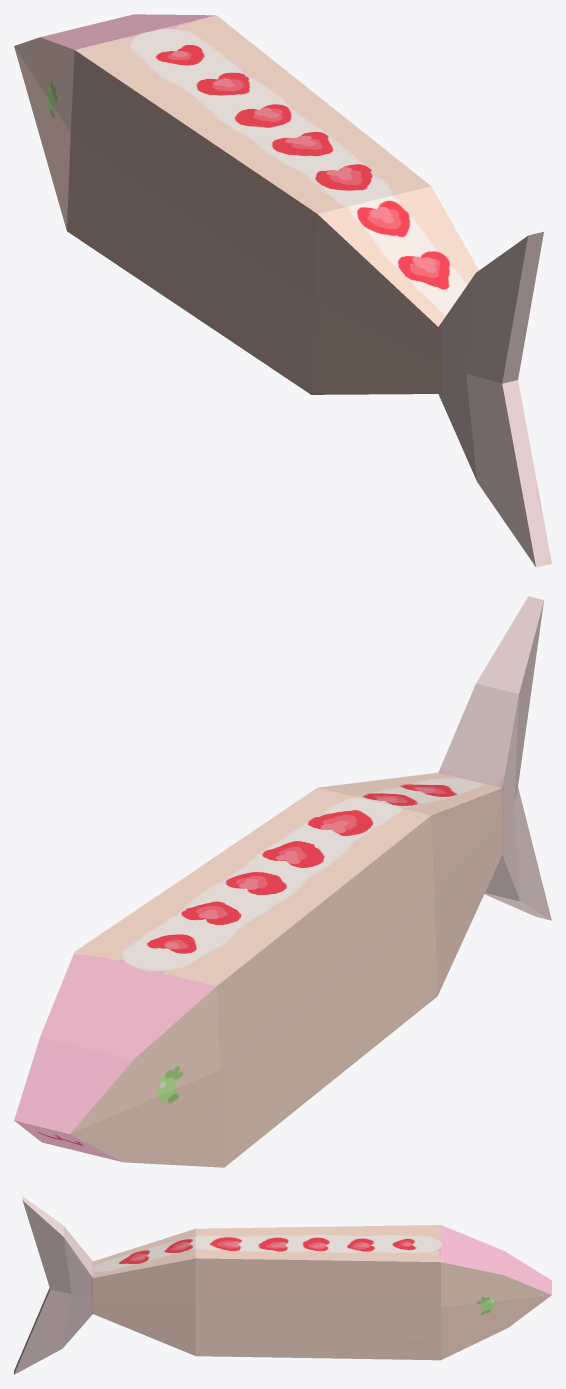
The model's file is fernandafish3.glb.
3 views of the same model, one above another, from view 1: azimuth 30°, elevation 25°; view 2: azimuth 150°, elevation 25°; view 3: azimuth 270°, elevation 25° (orthographic). The views are drawn at different scales.
Parts seen in each view (by area): view 1: Cube; view 2: Cube; view 3: Cube.
Part boxes in pixels (<box>): Cube: <box>14,14,551,567</box>; Cube: <box>14,596,551,1167</box>; Cube: <box>14,1196,551,1374</box>.
Bounding box in the file's own units: 2 × 3.96 × 11.04.
1 material, 1 textured.
